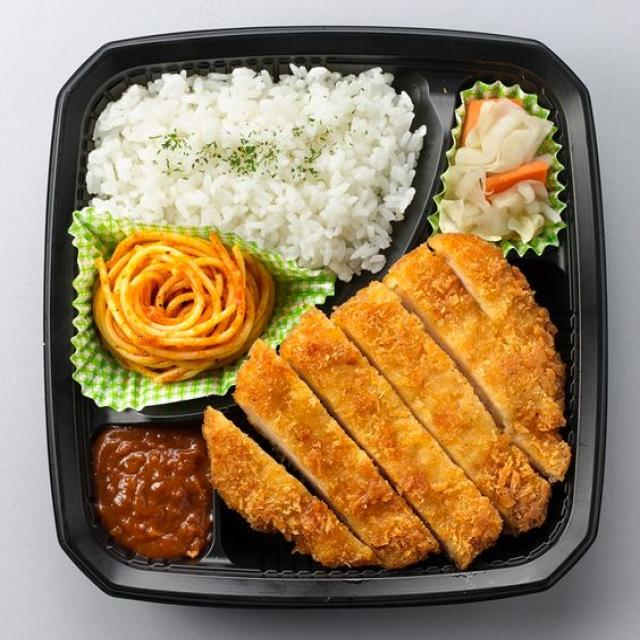Carbohydrate: (84, 73, 418, 364)
Kaow-Friedpork: (43, 27, 601, 605)
Protein: (202, 232, 570, 562)
Vegetable: (431, 82, 572, 255)
